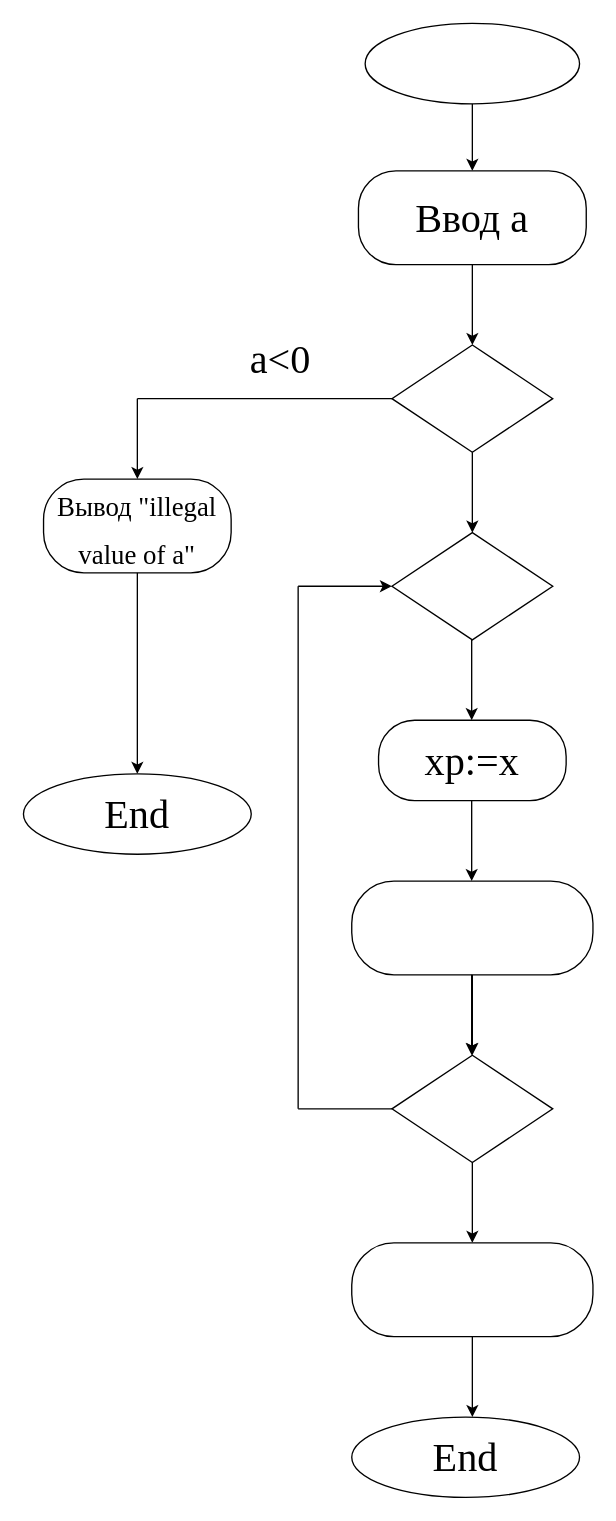
This 616x1521 diagram has some shape labels left out. The box of each missing label's shape, as (x1, y1, x2, y2) in pixels:
START: (364, 22, 580, 104)
x:=(x+a/x)/2: (350, 880, 593, 975)
Вывод "x/nX=sqrt(a)": (350, 1242, 593, 1337)
